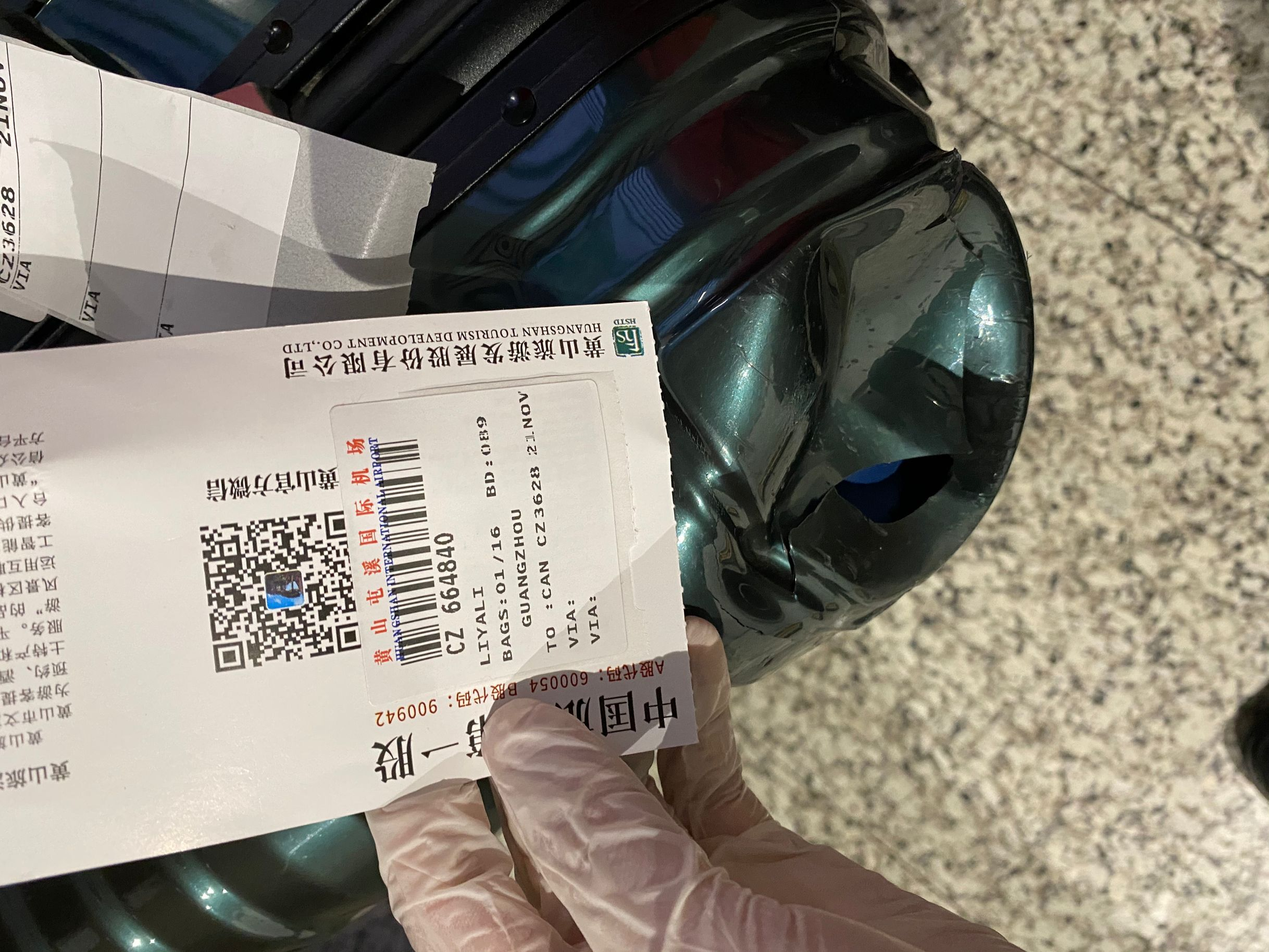rupture: (710, 179, 1035, 615)
